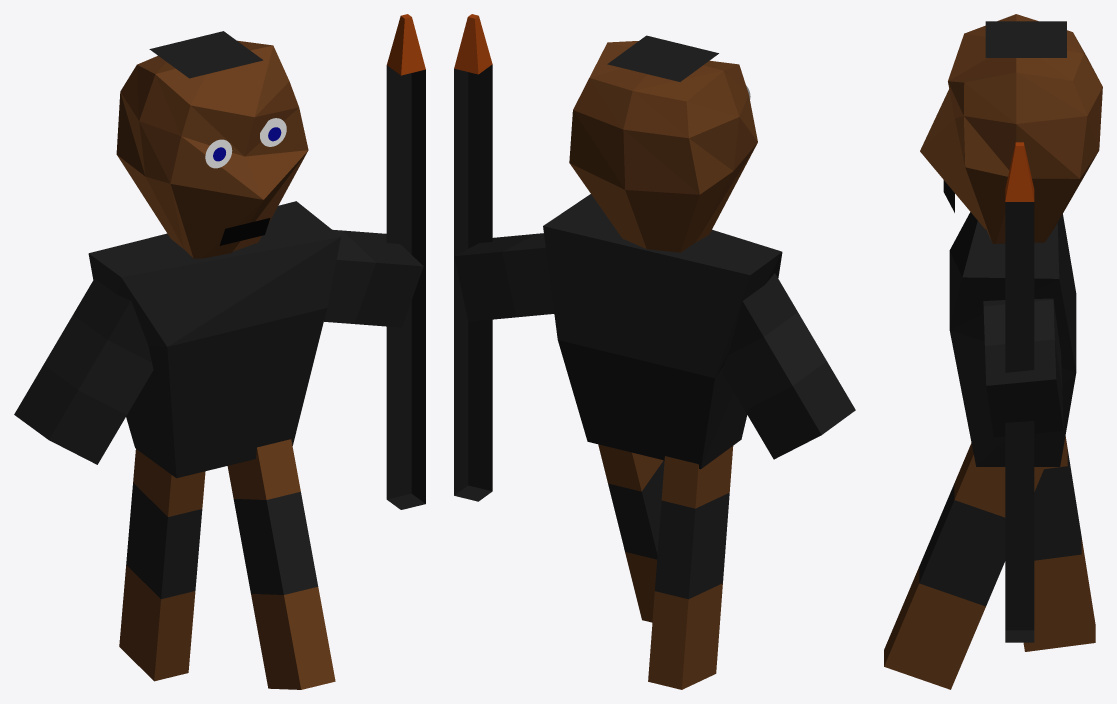
File: spearman2.obj
The picture shows the model from 3 angles, left to right: view 1: azimuth 30°, elevation 25°; view 2: azimuth 150°, elevation 25°; view 3: azimuth 270°, elevation 25°; orthographic projection. The views are drawn at different scales.
Visible parts, largest first — view 1: Cube.001, Cube, Cube.007, Cube.005, Cube.004, Cube.003, Cube.002, Plane.002, Plane; view 2: Cube.001, Cube, Cube.007, Cube.004, Cube.003, Cube.002, Cube.005, Plane.002; view 3: Cube, Cube.005, Cube.001, Cube.007, Cube.004, Cube.002, Plane.002.
Boxes of the visible parts, <box> form: Cube.001: <box>88,201,340,478</box>; Cube: <box>116,40,308,258</box>; Cube.007: <box>386,14,425,509</box>; Cube.005: <box>227,439,335,689</box>; Cube.004: <box>119,449,205,681</box>; Cube.003: <box>14,278,153,464</box>; Cube.002: <box>324,229,423,327</box>; Plane.002: <box>149,31,263,78</box>; Plane: <box>219,218,270,245</box>; Cube.001: <box>543,194,782,469</box>; Cube: <box>569,41,757,252</box>; Cube.007: <box>454,14,492,501</box>; Cube.004: <box>648,446,733,689</box>; Cube.003: <box>722,273,855,459</box>; Cube.002: <box>454,233,554,321</box>; Cube.005: <box>598,444,664,622</box>; Plane.002: <box>607,35,718,81</box>; Cube: <box>920,14,1102,243</box>; Cube.005: <box>884,443,1044,689</box>; Cube.001: <box>949,212,1076,466</box>; Cube.007: <box>1005,142,1034,642</box>; Cube.004: <box>1023,436,1095,651</box>; Cube.002: <box>983,298,1063,437</box>; Plane.002: <box>985,21,1066,57</box>.
Size of the model in its own units: 3.88 by 5.9 by 1.88.
